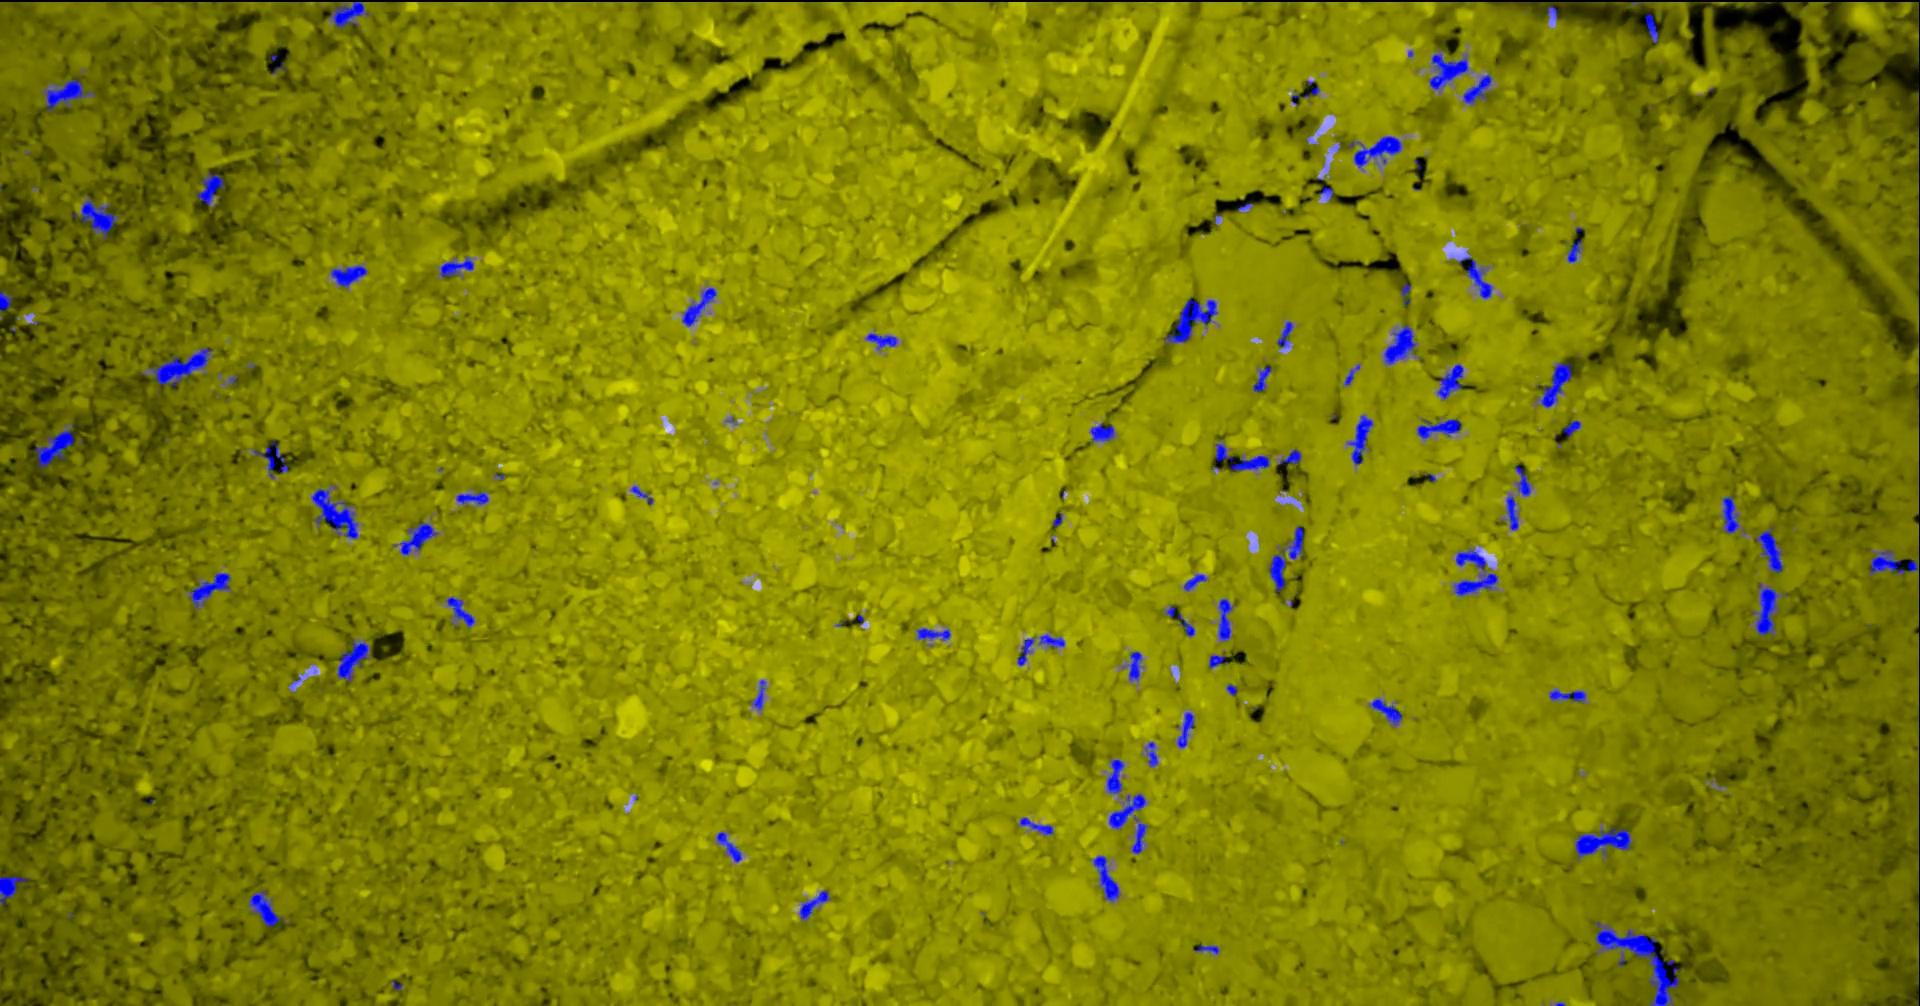ant: (150, 347, 213, 387), (1270, 525, 1305, 594), (1110, 793, 1149, 854), (1166, 298, 1219, 343), (36, 423, 84, 467), (1455, 547, 1498, 596), (72, 197, 119, 239), (1752, 582, 1789, 635), (1576, 826, 1633, 860), (1349, 135, 1403, 166), (1217, 438, 1271, 470), (44, 77, 97, 111), (1430, 50, 1470, 91), (190, 572, 232, 608), (394, 522, 439, 555), (338, 639, 372, 682), (1542, 362, 1575, 406), (1460, 257, 1495, 298), (249, 889, 286, 926), (254, 439, 290, 478), (683, 287, 717, 326), (1385, 324, 1418, 365), (1092, 855, 1121, 901), (1757, 525, 1785, 572), (1349, 414, 1374, 465), (1870, 549, 1920, 574), (330, 0, 371, 28), (197, 171, 226, 206), (1437, 363, 1465, 399), (1166, 605, 1196, 636), (1464, 72, 1493, 104), (447, 596, 476, 627), (331, 264, 370, 288), (1418, 418, 1463, 438), (801, 889, 830, 920), (1371, 699, 1404, 725), (1, 875, 30, 904), (717, 831, 743, 861), (1291, 80, 1321, 105), (441, 257, 475, 277), (1219, 598, 1234, 640), (1178, 711, 1196, 747), (1724, 495, 1741, 533), (1021, 817, 1055, 835), (1109, 760, 1126, 793), (867, 332, 899, 349), (1516, 464, 1533, 495), (1018, 636, 1036, 666), (1091, 422, 1116, 442), (1550, 688, 1587, 702), (1255, 365, 1272, 392), (457, 490, 490, 504), (752, 680, 767, 709), (1646, 11, 1660, 43), (632, 485, 655, 504), (918, 627, 952, 640), (1277, 321, 1294, 347), (1509, 494, 1520, 530), (1279, 448, 1303, 465), (1185, 573, 1209, 589), (1129, 652, 1143, 680), (1568, 238, 1583, 262), (1345, 363, 1361, 385), (1040, 633, 1065, 647), (1, 290, 13, 319), (1147, 741, 1159, 766), (1564, 420, 1582, 437), (1195, 942, 1220, 954), (1210, 655, 1229, 668), (1402, 283, 1412, 305), (1548, 5, 1559, 19), (1919, 744, 1920, 862), (1919, 128, 1920, 183)
